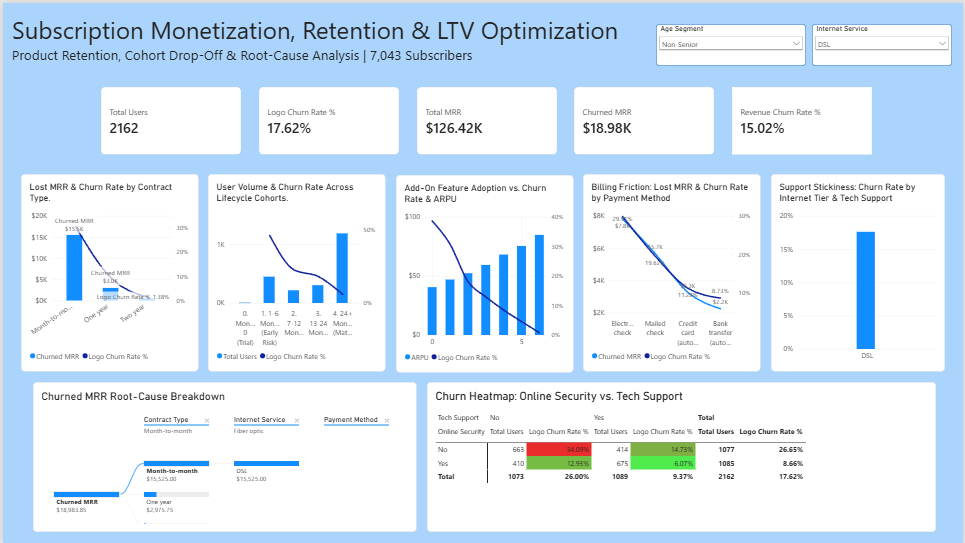

The page's visual inventory and layout, read from the dashboard file:
{"tool":"powerbi","page":{"name":"Executive Overview","canvas":[1920,1080],"ordinal":0},"visuals":[{"type":"slicer","fields":{"Values":["vw_telco_clean.internet_service"]},"box":[1618,42,280,84],"z":0},{"type":"slicer","fields":{"Values":["vw_telco_clean.age_segment"]},"box":[1306,42,300,84],"z":1000},{"type":"cardVisual","fields":{"Data":["_Key_Measures.Total Users"]},"box":[195,168.3,280,135],"z":2000,"group":"g1"},{"type":"lineClusteredColumnComboChart","title":"Lost MRR & Churn Rate by Contract Type.","fields":{"Category":["vw_telco_clean.contract_type"],"Y":["_Key_Measures.Churned MRR"],"Y2":["_Key_Measures.Logo Churn Rate %"]},"box":[36.7,342.5,355,395],"z":2000,"group":"g2"},{"type":"cardVisual","fields":{"Data":["_Key_Measures.Churned MRR"]},"box":[1141.7,168.3,280,135],"z":3000,"group":"g1"},{"type":"lineClusteredColumnComboChart","title":"User Volume & Churn Rate Across Lifecycle Cohorts.","fields":{"Category":["vw_telco_clean.tenure_cohort"],"Y":["_Key_Measures.Total Users"],"Y2":["_Key_Measures.Logo Churn Rate %"]},"box":[411.5,342.5,355,395],"z":3000,"group":"g2"},{"type":"cardVisual","fields":{"Data":["_Key_Measures.Revenue Churn Rate %"]},"box":[1456.7,168.3,280,135],"z":4000,"group":"g1"},{"type":"decompositionTreeVisual","title":"Churned MRR Root-Cause Breakdown","fields":{"Analyze":["_Key_Measures.Churned MRR"],"ExplainBy":["vw_telco_clean.contract_type","vw_telco_clean.internet_service","vw_telco_clean.payment_method","vw_telco_clean.tenure_cohort"]},"box":[60,758.3,766.7,300],"z":4000},{"type":"cardVisual","fields":{"Data":["_Key_Measures.Logo Churn Rate %"]},"box":[510,168.3,280,135],"z":5000,"group":"g1"},{"type":"lineClusteredColumnComboChart","title":"Add-On Feature Adoption vs. Churn Rate & ARPU","fields":{"Category":["vw_telco_clean.active_addons_count"],"Y":["_Key_Measures.ARPU"],"Y2":["_Key_Measures.Logo Churn Rate %"]},"box":[786.3,342.9,355,395],"z":5000,"group":"g2"},{"type":"cardVisual","fields":{"Data":["_Key_Measures.Total MRR"]},"box":[826.7,168.3,280,135],"z":6000,"group":"g1"},{"type":"pivotTable","title":"Churn Heatmap: Online Security vs. Tech Support","fields":{"Columns":["vw_telco_clean.tech_support"],"Rows":["vw_telco_clean.online_security"],"Values":["_Key_Measures.Total Users","_Key_Measures.Logo Churn Rate %"]},"box":[848.3,758.3,1018.3,300],"z":6000},{"type":"textbox","box":[18.3,20,1265,105],"z":7000},{"type":"group","id":"g1","title":"Group 1","box":[195,168.3,1541.7,135],"z":8000},{"type":"lineChart","title":"Billing Friction: Lost MRR & Churn Rate by Payment Method","fields":{"Category":["vw_telco_clean.payment_method"],"Y":["_Key_Measures.Churned MRR"],"Y2":["_Key_Measures.Logo Churn Rate %"]},"box":[1161.1,341.7,355,395],"z":9000,"group":"g2"},{"type":"clusteredColumnChart","title":"Support Stickiness: Churn Rate by Internet Tier & Tech Support","fields":{"Category":["vw_telco_clean.internet_service"],"Y":["_Key_Measures.Logo Churn Rate %"]},"box":[1535.9,341.7,347.5,395],"z":10000,"group":"g2"},{"type":"group","id":"g2","title":"Group 2","box":[36.7,341.7,1846.7,395],"z":10001}]}

Visuals, with their boxes in screenshot pixels (x1, y1, x2, y2), scaled from the page's 1920x1080 canvas onto the 965x543 screenshot:
slicer - vw_telco_clean.internet_service: (left=813, top=21, right=954, bottom=63)
slicer - vw_telco_clean.age_segment: (left=656, top=21, right=807, bottom=63)
cardVisual - _Key_Measures.Total Users: (left=98, top=85, right=239, bottom=152)
"Lost MRR & Churn Rate by Contract Type." lineClusteredColumnComboChart: (left=18, top=172, right=197, bottom=371)
cardVisual - _Key_Measures.Churned MRR: (left=574, top=85, right=715, bottom=152)
"User Volume & Churn Rate Across Lifecycle Cohorts." lineClusteredColumnComboChart: (left=207, top=172, right=385, bottom=371)
cardVisual - _Key_Measures.Revenue Churn Rate %: (left=732, top=85, right=873, bottom=152)
"Churned MRR Root-Cause Breakdown" decompositionTreeVisual: (left=30, top=381, right=416, bottom=532)
cardVisual - _Key_Measures.Logo Churn Rate %: (left=256, top=85, right=397, bottom=152)
"Add-On Feature Adoption vs. Churn Rate & ARPU" lineClusteredColumnComboChart: (left=395, top=172, right=574, bottom=371)
cardVisual - _Key_Measures.Total MRR: (left=416, top=85, right=556, bottom=152)
"Churn Heatmap: Online Security vs. Tech Support" pivotTable: (left=426, top=381, right=938, bottom=532)
textbox: (left=9, top=10, right=645, bottom=63)
"Group 1" group: (left=98, top=85, right=873, bottom=152)
"Billing Friction: Lost MRR & Churn Rate by Payment Method" lineChart: (left=584, top=172, right=762, bottom=370)
"Support Stickiness: Churn Rate by Internet Tier & Tech Support" clusteredColumnChart: (left=772, top=172, right=947, bottom=370)
"Group 2" group: (left=18, top=172, right=947, bottom=370)
